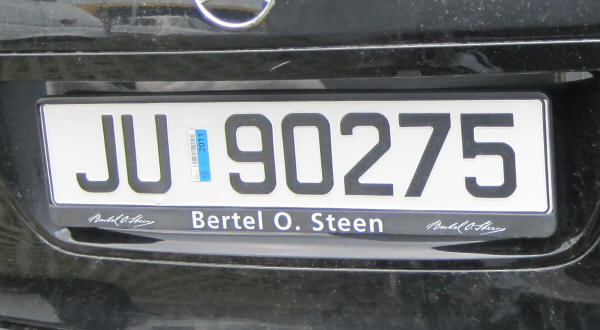license_plate: (39, 101, 552, 219)
